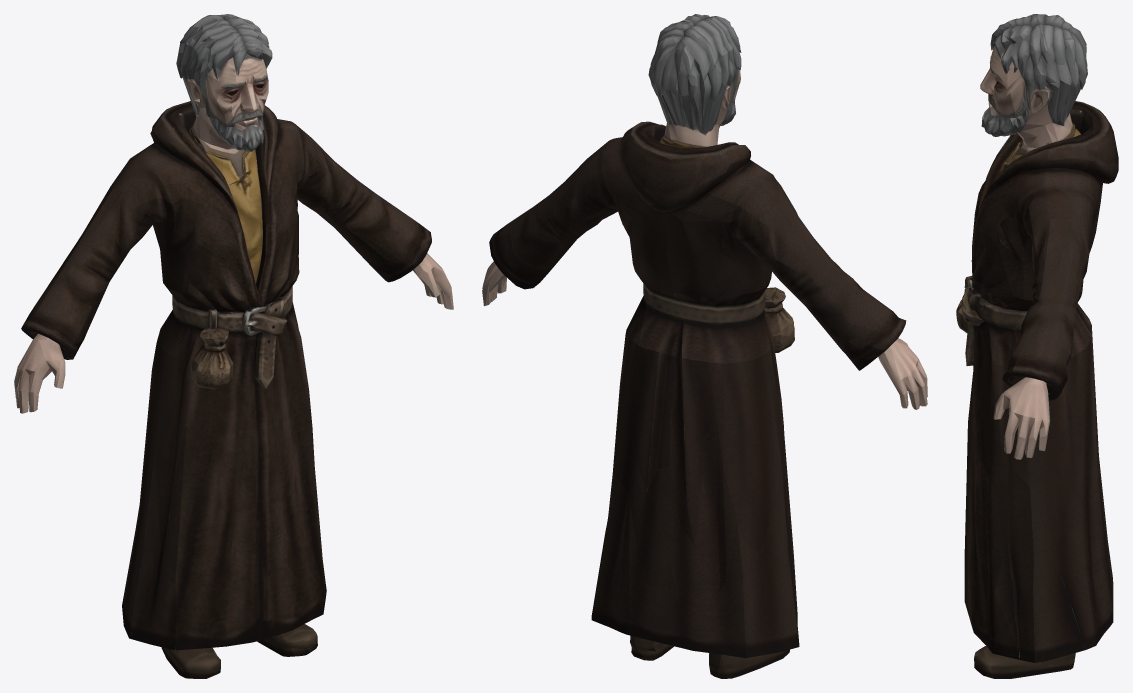
3 views of the same model, side by side, from view 1: azimuth 30°, elevation 25°; view 2: azimuth 150°, elevation 25°; view 3: azimuth 270°, elevation 25° (orthographic).
Size of the model in its own units: 1.36 by 1.9 by 0.4426.
Materials: 1 (1 with a texture image).
